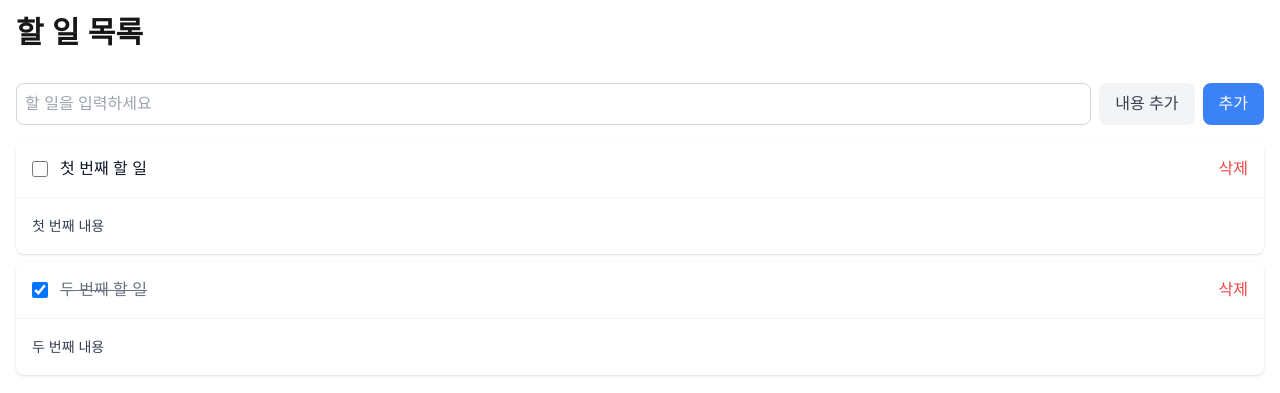
Page 컴포넌트 › 할 일 삭제 › 할 일을 삭제할 수 있어야 함
This screenshot has width=1280, height=393.
첫 번째 할 일의 삭제 버튼 클릭
Click the button "삭제" in the row of "첫 번째 할 일".
click(1233, 169)  # box [1218,157,1248,181]
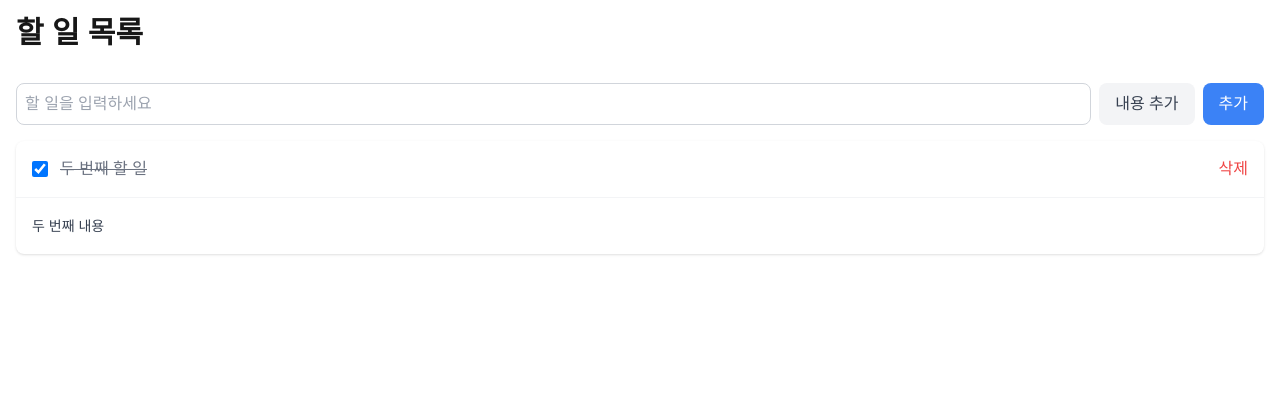
Expected: the text "첫 번째 할 일" is gone
Expected: the text "첫 번째 내용" is gone
